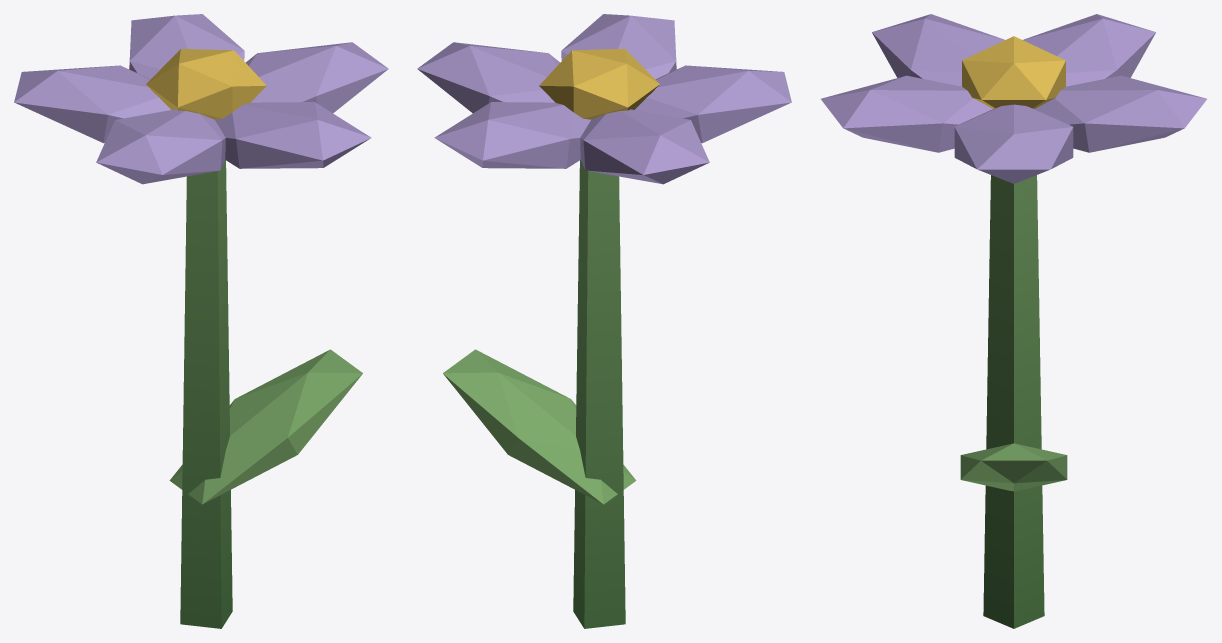
Rendered from FlowerLilac.fbx.
3 views of the same model, side by side, from view 1: azimuth 30°, elevation 25°; view 2: azimuth 150°, elevation 25°; view 3: azimuth 270°, elevation 25° (orthographic).
Parts seen in each view (by area): view 1: FlowerLilac; view 2: FlowerLilac; view 3: FlowerLilac.
Part boxes in pixels (<box>): FlowerLilac: <box>14,14,388,628</box>; FlowerLilac: <box>417,14,791,628</box>; FlowerLilac: <box>821,14,1206,628</box>.
Bounding box in the file's own units: 0.0843 × 0.1431 × 0.0886.
